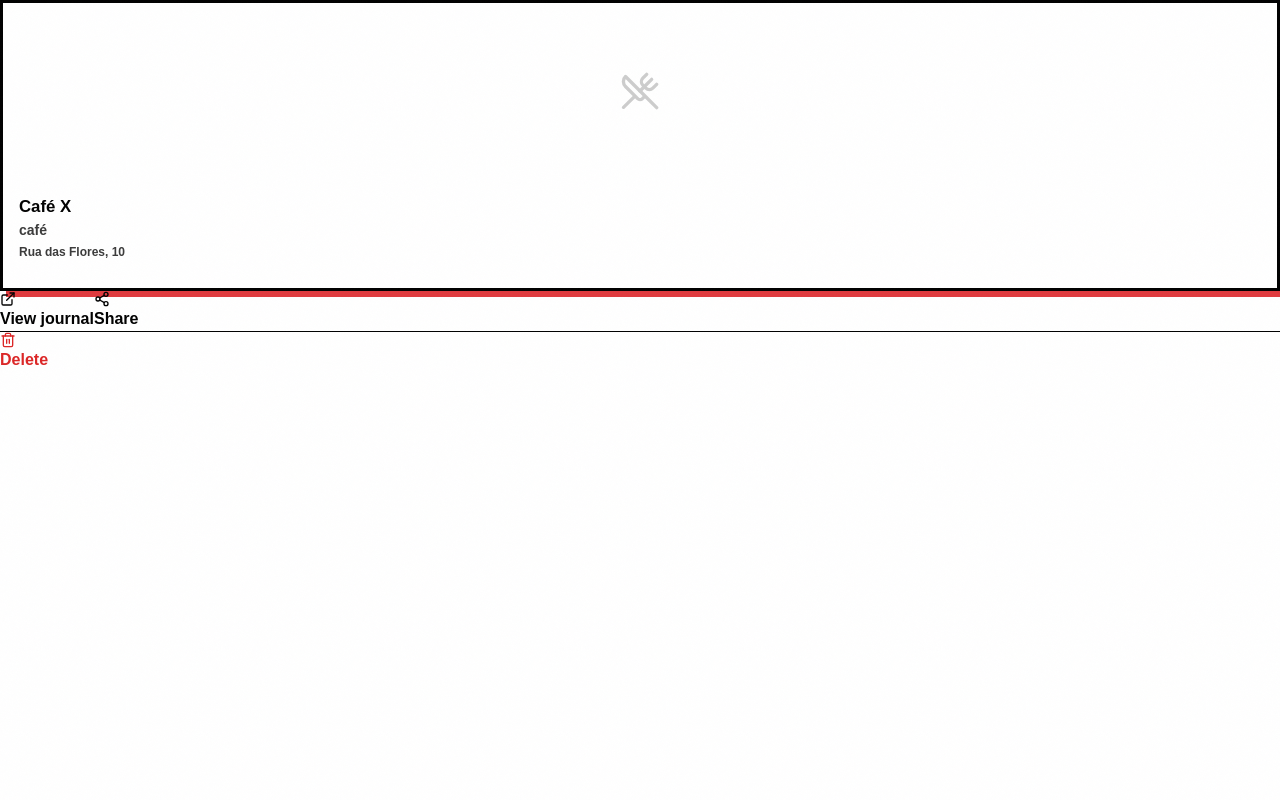
Test: opens delete confirmation dialog instead of native confirm
Step 1. Click the button "Delete" → (24, 352), box [0,332,48,372]
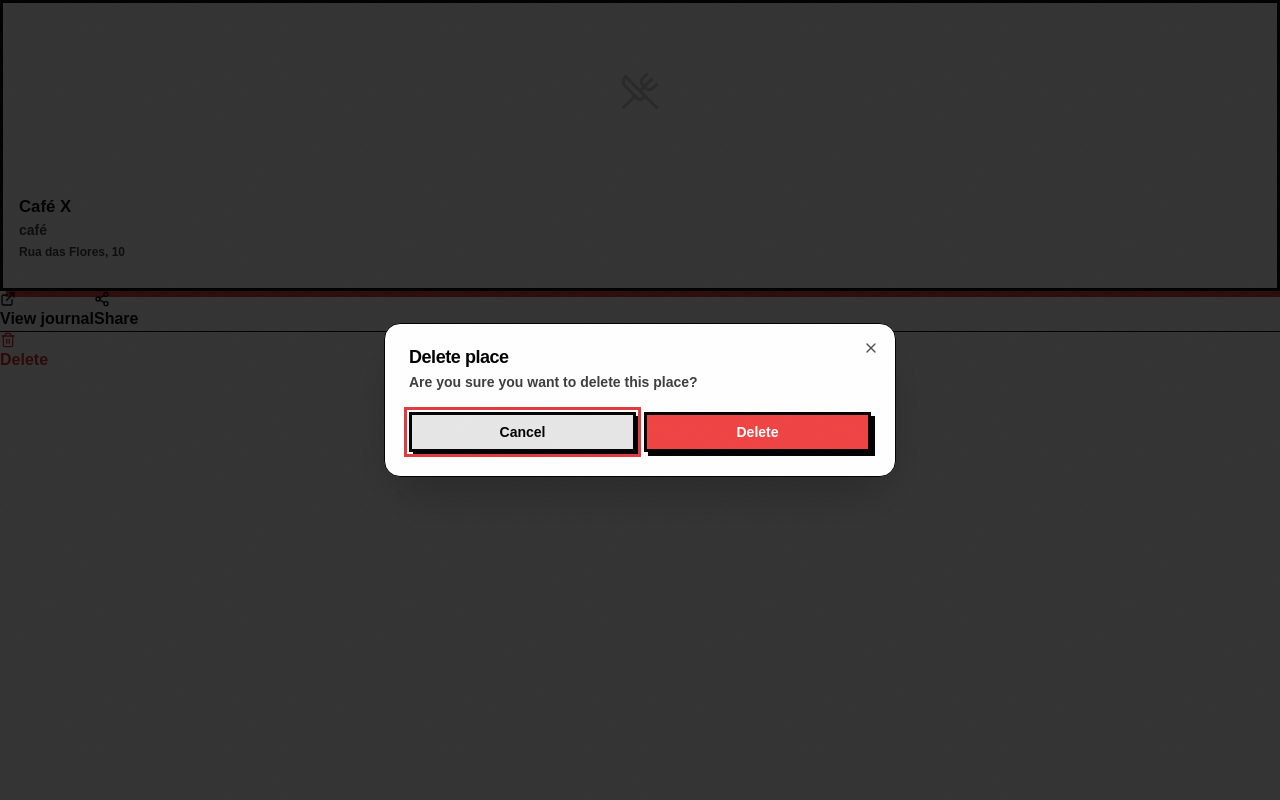
Now the dialog is shown, box [384,323,896,477]
Now the heading "Delete place" is shown, box [409,347,509,367]
